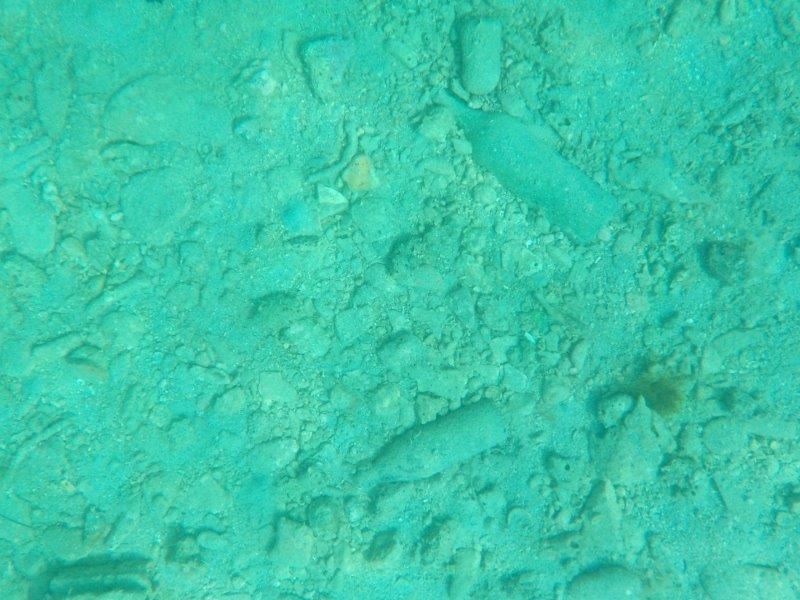bottle: (426, 81, 631, 253), (345, 396, 513, 492)
